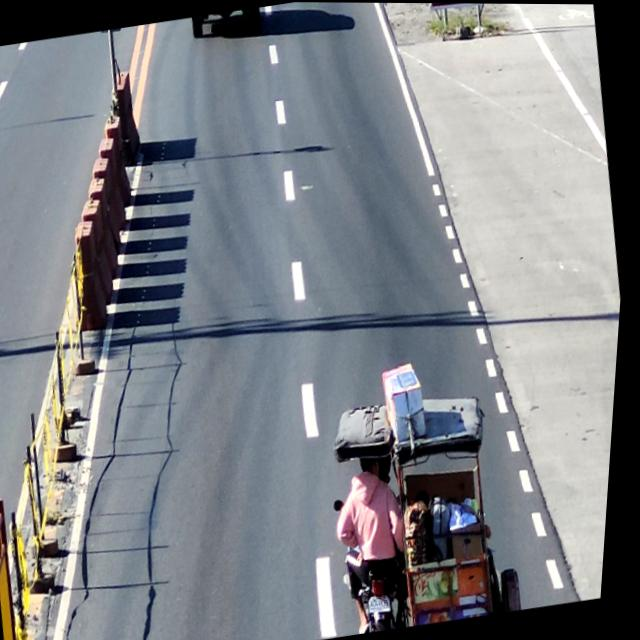License-Plate: (372, 592, 405, 617)
Tricycle: (312, 349, 547, 637)
